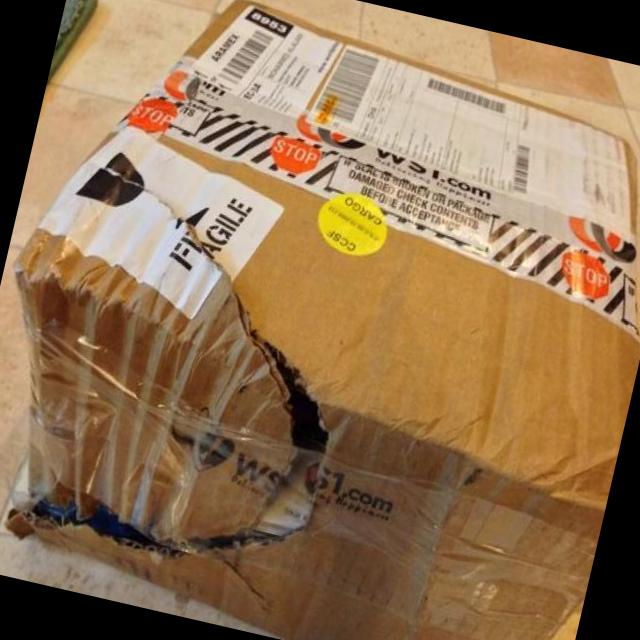box: (27, 135, 601, 581)
